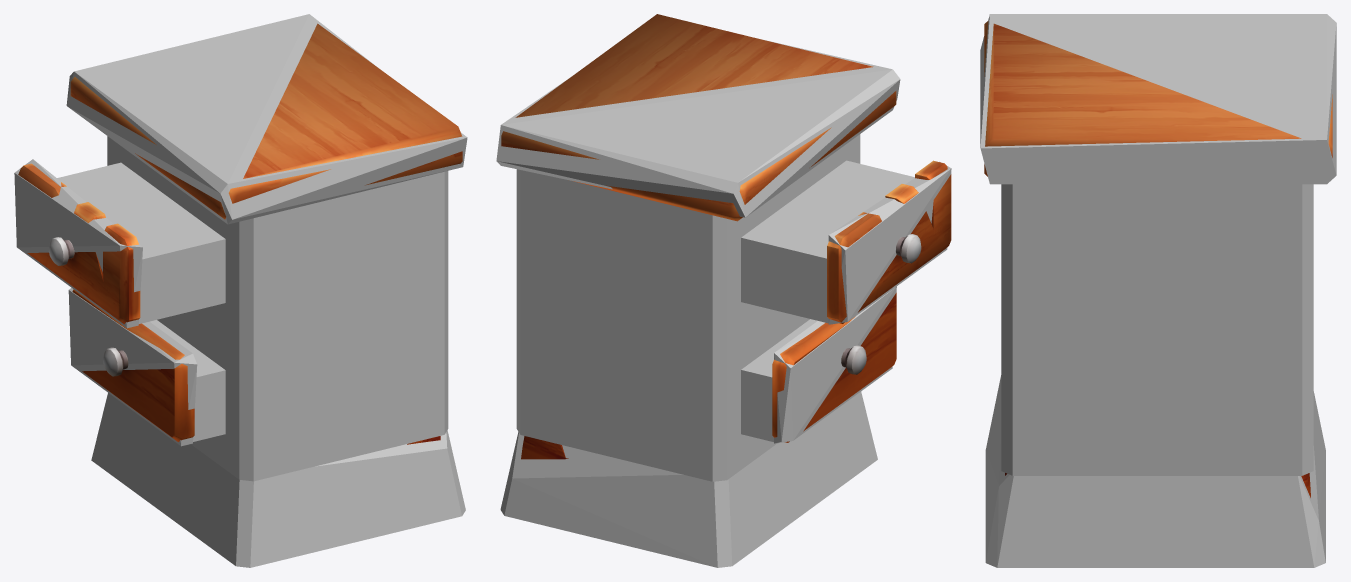
The model's file is SM_Bedside01.fbx.
3 views of the same model, side by side, from view 1: azimuth 30°, elevation 25°; view 2: azimuth 150°, elevation 25°; view 3: azimuth 270°, elevation 25° (orthographic). The views are drawn at different scales.
Parts seen in each view (by area): view 1: SM_Bedside01_ConvexHulls, SM_Bedside01; view 2: SM_Bedside01_ConvexHulls, SM_Bedside01; view 3: SM_Bedside01_ConvexHulls, SM_Bedside01.
Part boxes in pixels (x1,y1,x2,y2): SM_Bedside01_ConvexHulls: (14,14,467,567); SM_Bedside01: (18,23,462,444); SM_Bedside01_ConvexHulls: (496,39,951,567); SM_Bedside01: (501,14,951,459); SM_Bedside01_ConvexHulls: (980,14,1336,567); SM_Bedside01: (984,21,1332,497).
Bounding box in the file's own units: 76.91 × 63.33 × 83.39.
Materials: 2 (1 with a texture image).
